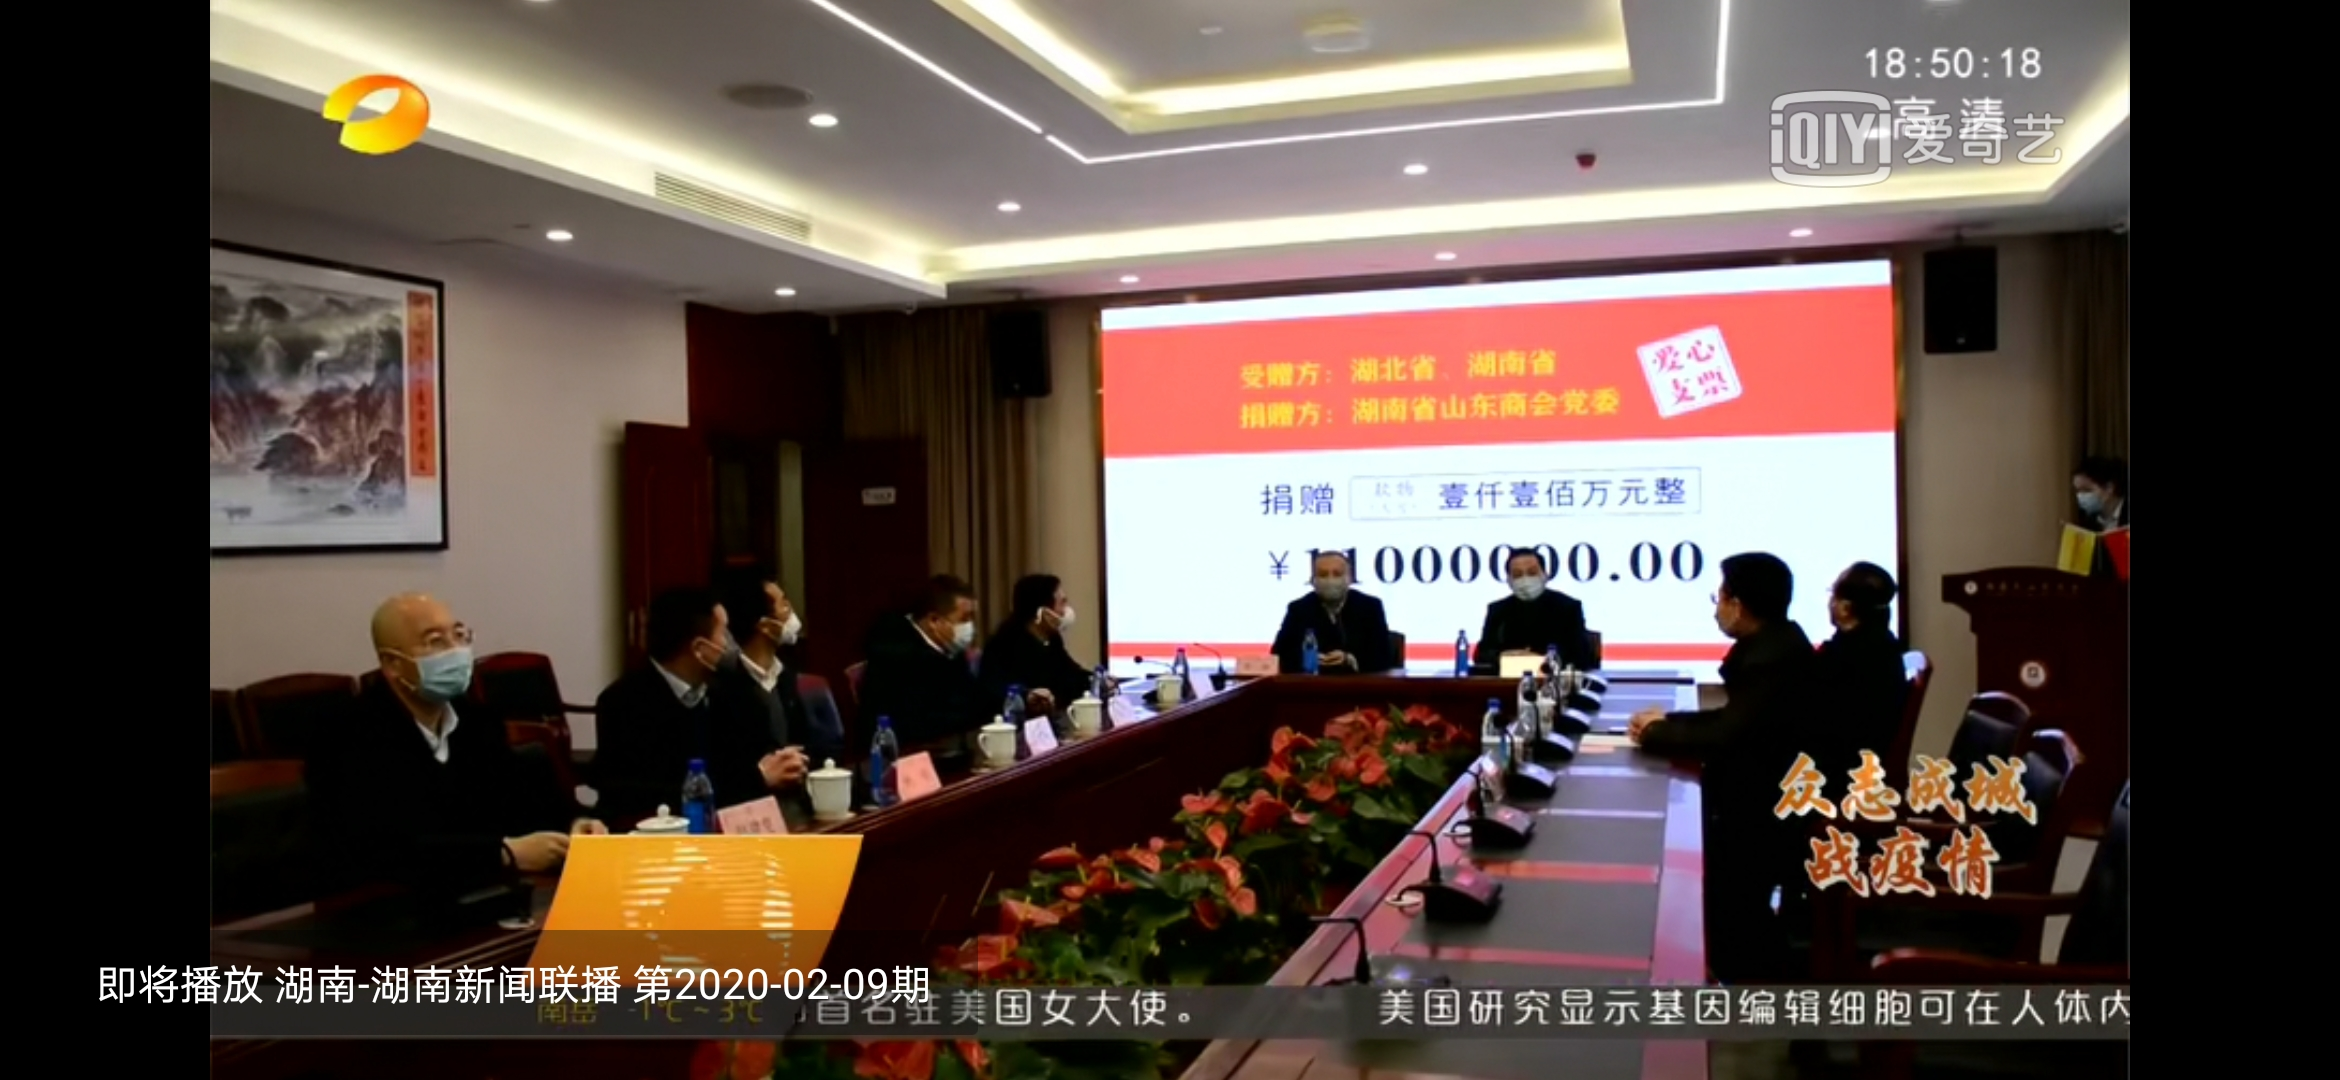correctlyWear: (384, 618, 478, 706), (682, 619, 739, 685), (1712, 573, 1754, 638), (930, 600, 977, 653), (760, 600, 803, 650), (2074, 474, 2115, 519), (1040, 594, 1077, 638), (1507, 559, 1545, 603), (1313, 562, 1349, 603)
